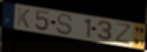1: (84, 18, 94, 38)
3: (96, 20, 114, 42)
5: (35, 9, 51, 32)
K: (16, 7, 31, 30)
S: (56, 13, 74, 36)
Z: (114, 22, 133, 46)
